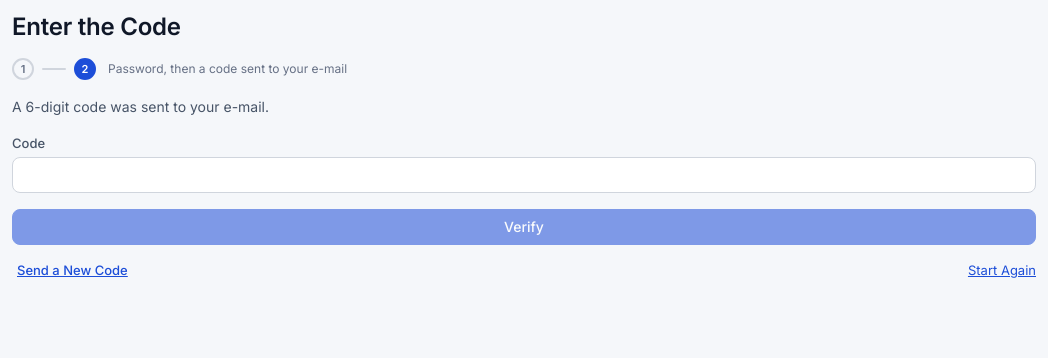
Scenario: sign-in › a refused code keeps them
This screenshot has width=1048, height=358.
Type "000000" into the field labelled "Code" at {"x": 524, "y": 175}, box [12,157,1036,193]
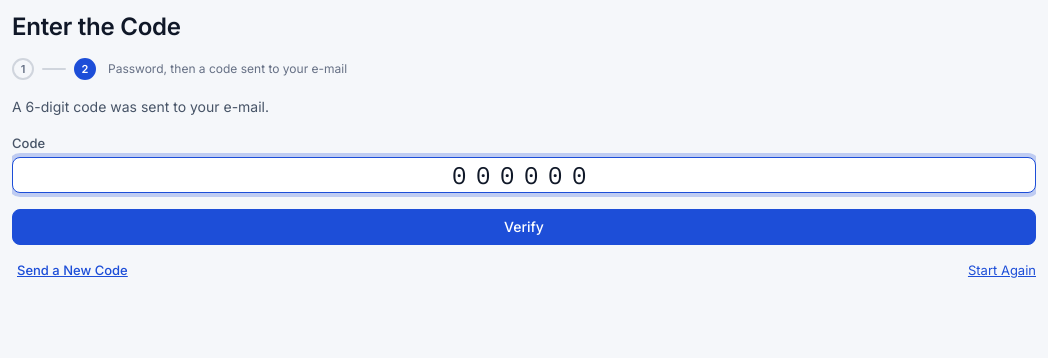
Click the button "Verify" at {"x": 524, "y": 227}, box [12,209,1036,245]
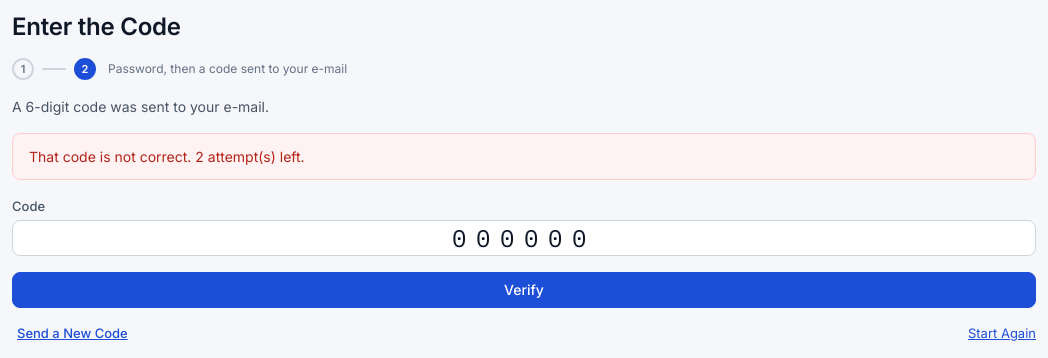
Expected: the message "That code is not correct. 2 attempt(s) left." is shown, [12,133,1036,180]
